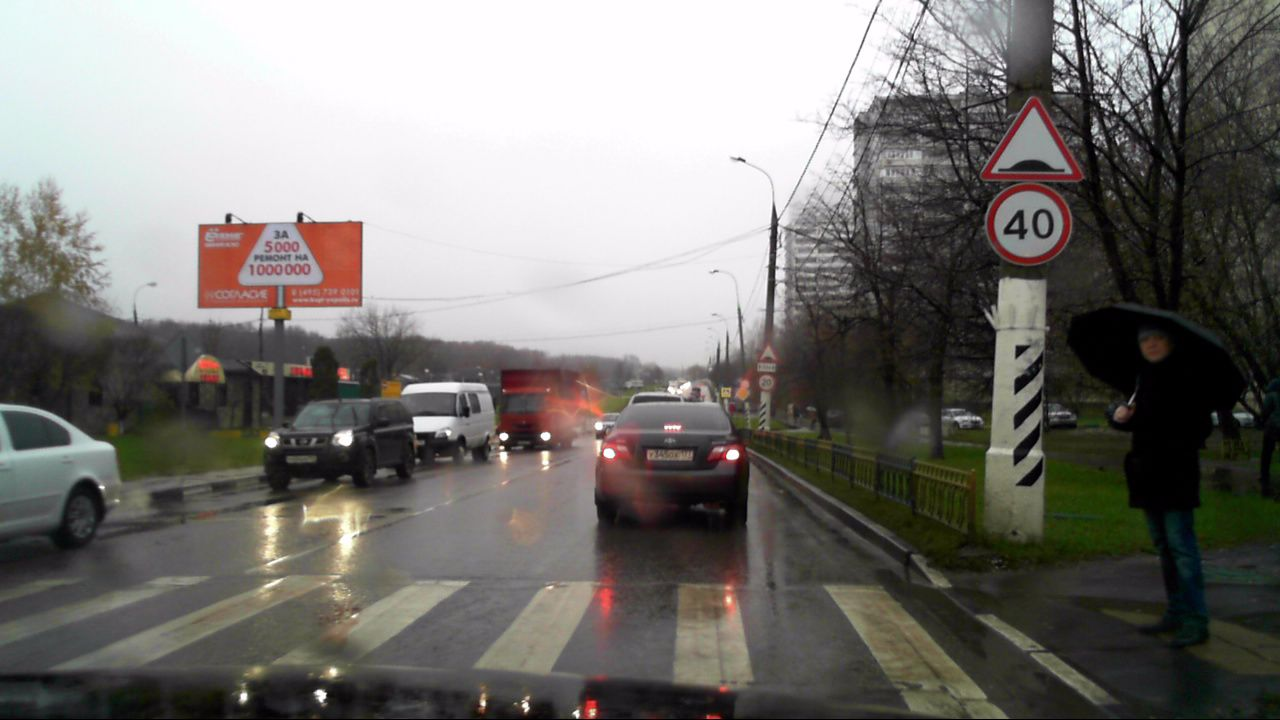speed_warning_40: (986, 186, 1068, 264)
